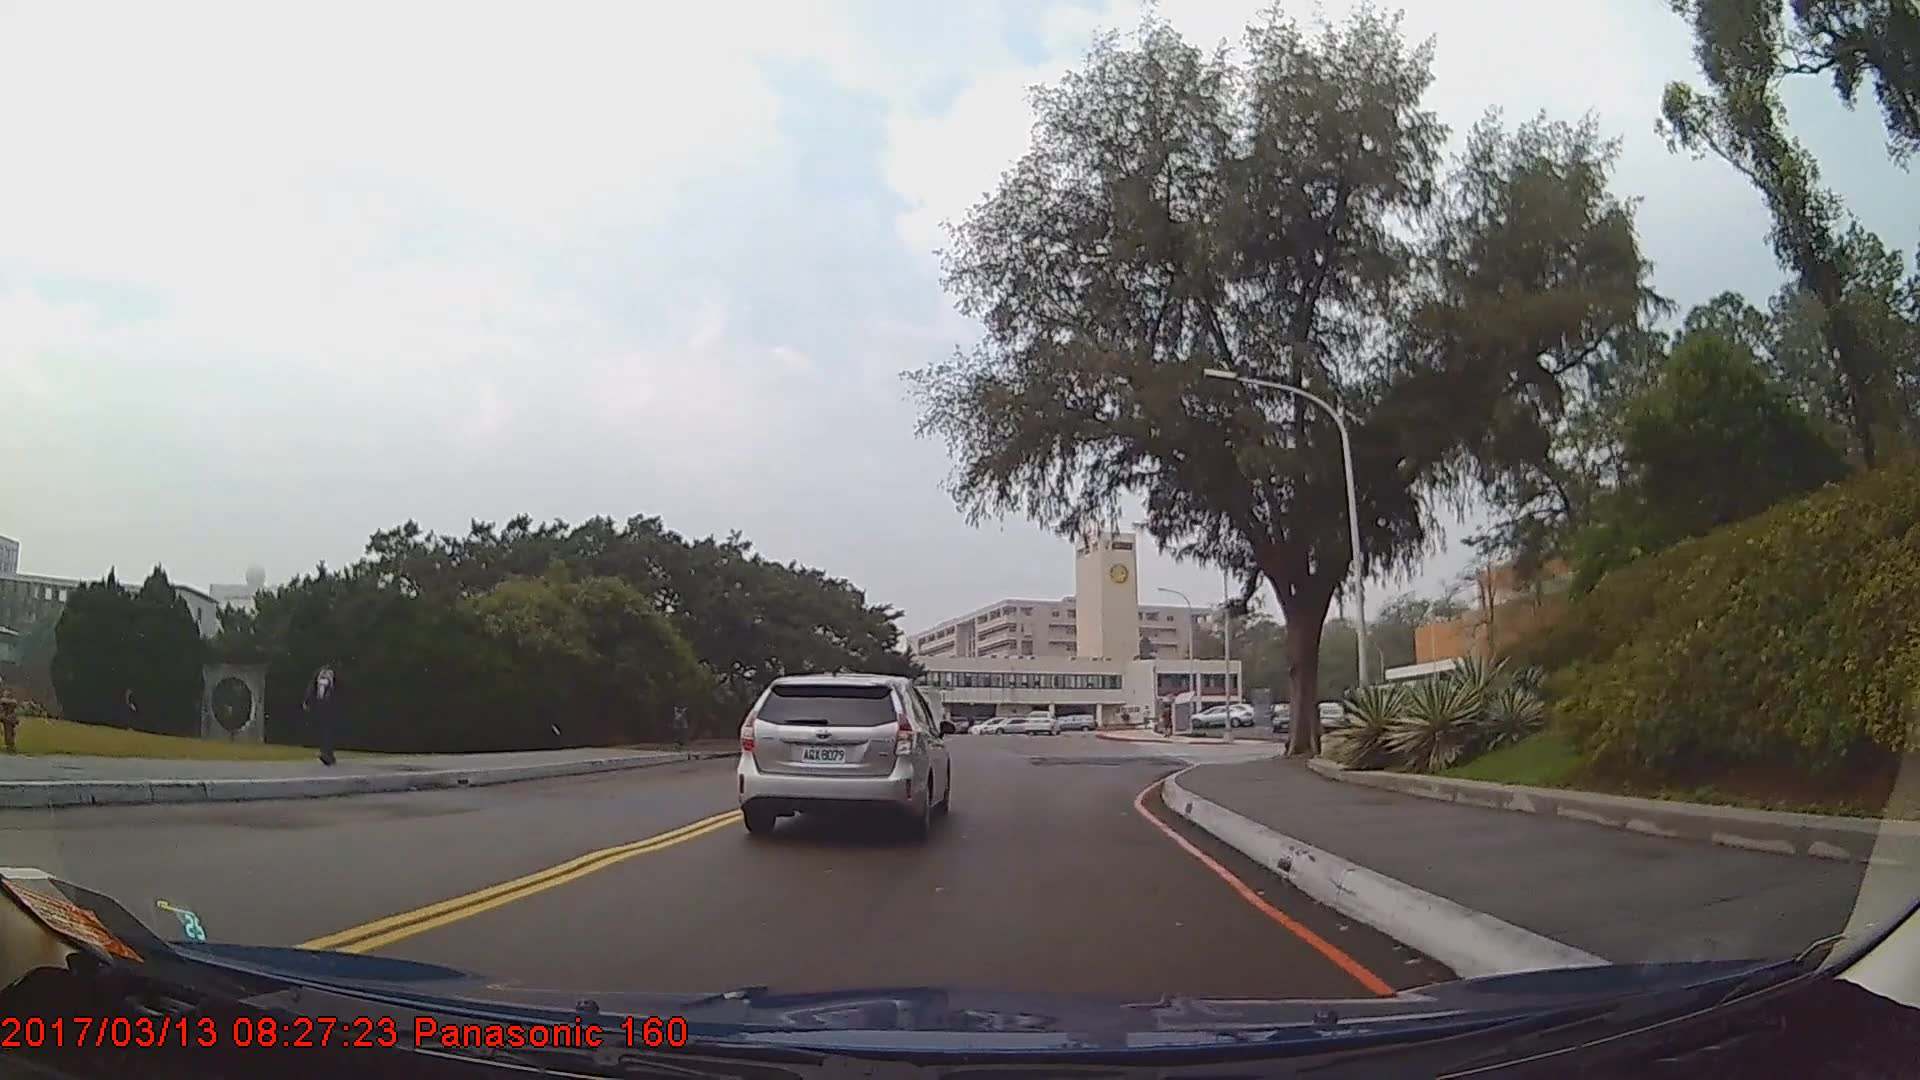pedestrian: (301, 644, 353, 767)
vehicle: (737, 670, 950, 840), (1190, 705, 1250, 730), (979, 712, 1034, 737), (1021, 707, 1063, 734), (1314, 704, 1342, 731), (1269, 707, 1295, 731)
